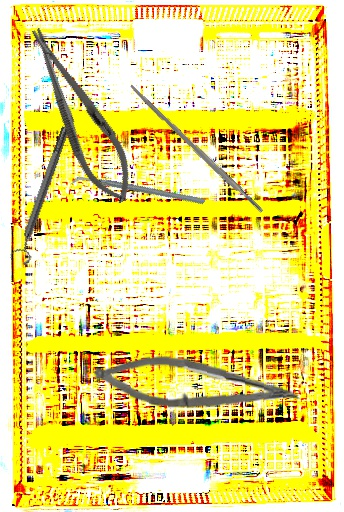Chopper: (70, 130, 207, 253)
Fixation Ring: (7, 124, 78, 266)
Micro Scissor: (92, 351, 303, 416)
Needle Holder: (14, 17, 147, 213)
Scalpel Handle: (127, 82, 265, 216)
